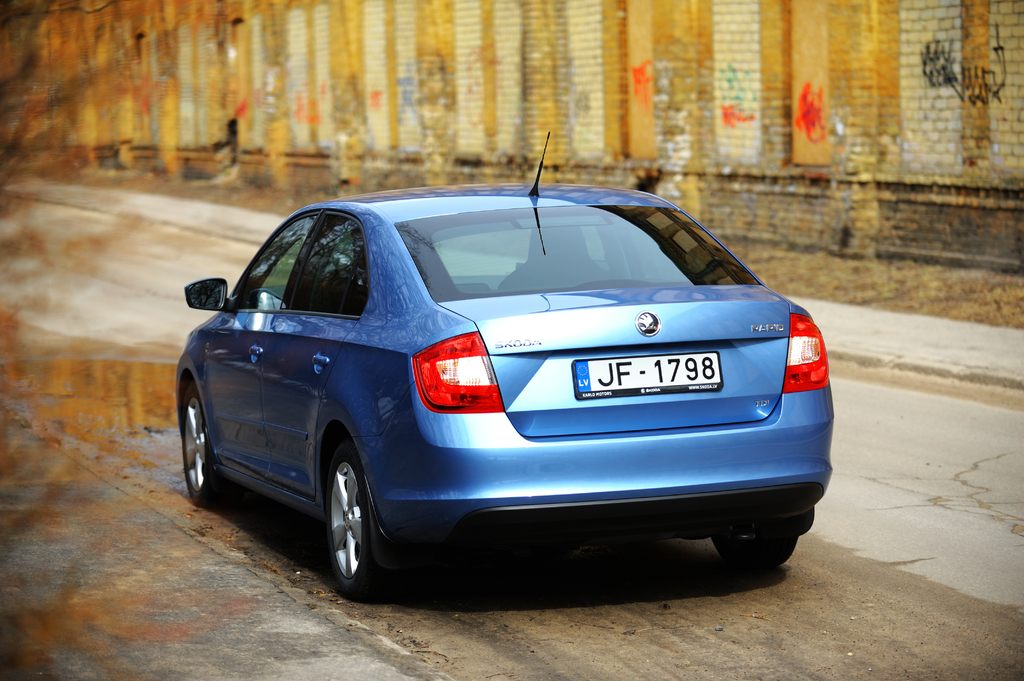license plate: (570, 360, 727, 396)
